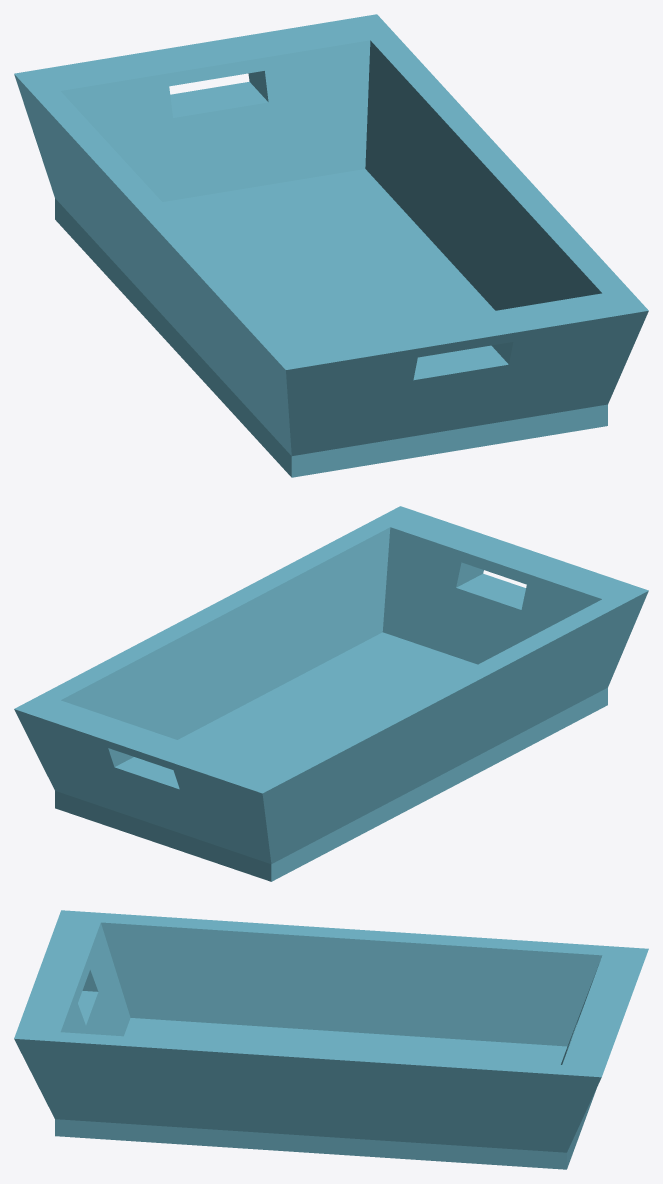
The model's file is potinhov2.fbx.
The picture shows the model from 3 angles, top to bottom: view 1: azimuth 30°, elevation 25°; view 2: azimuth 150°, elevation 25°; view 3: azimuth 270°, elevation 25°; orthographic projection. The views are drawn at different scales.
Visible parts, largest first — view 1: Cube.027; view 2: Cube.027; view 3: Cube.027.
Boxes of the visible parts, x1,y1,x2,y2 form: Cube.027: [14, 14, 648, 477]; Cube.027: [14, 506, 648, 881]; Cube.027: [14, 910, 648, 1169].
Size of the model in its own units: 0.8644 by 0.2489 by 1.39.
